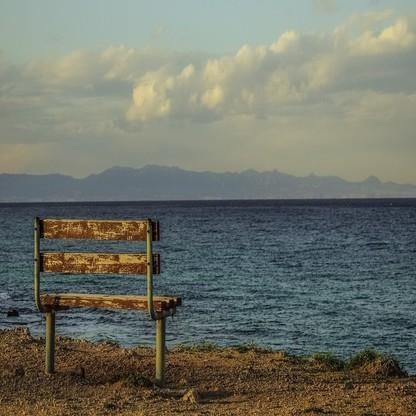obstacle: (22, 209, 181, 382)
